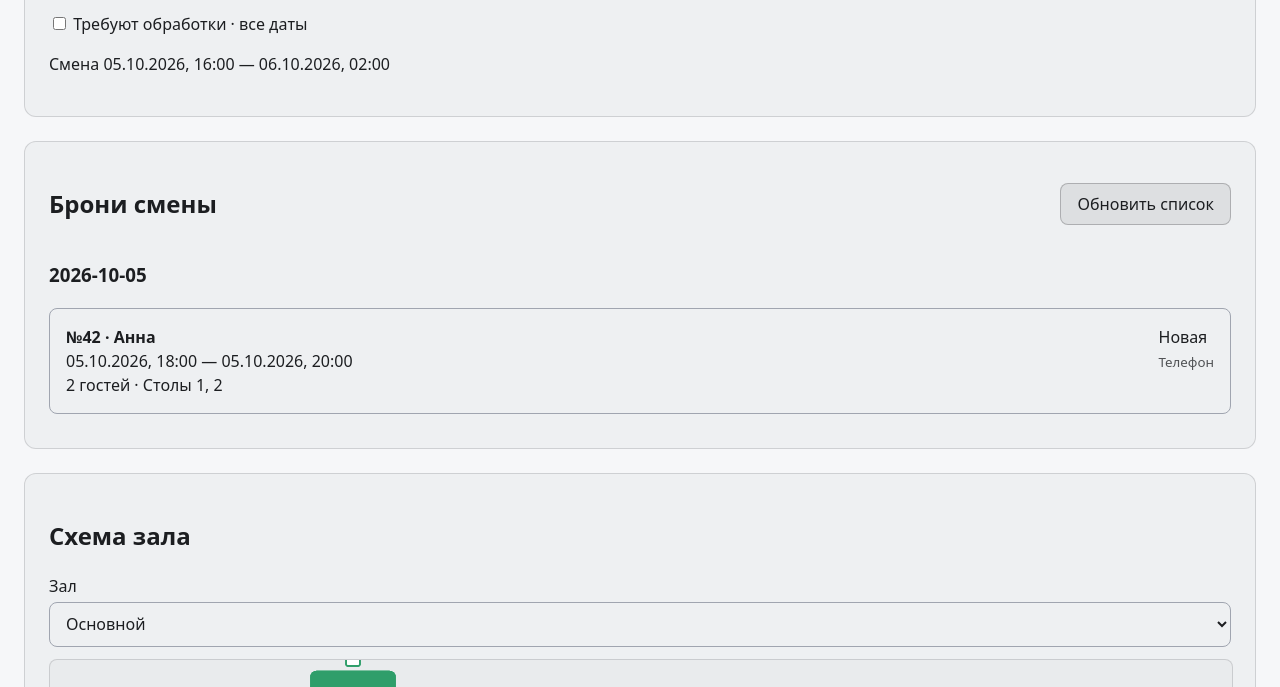
Test case: Booking Book › renders every assigned table and the summed capacity
The width and height of the screenshot is (1280, 687).
(page scrolled)
Click the button "№42": (135,337) [49,308,1231,414]
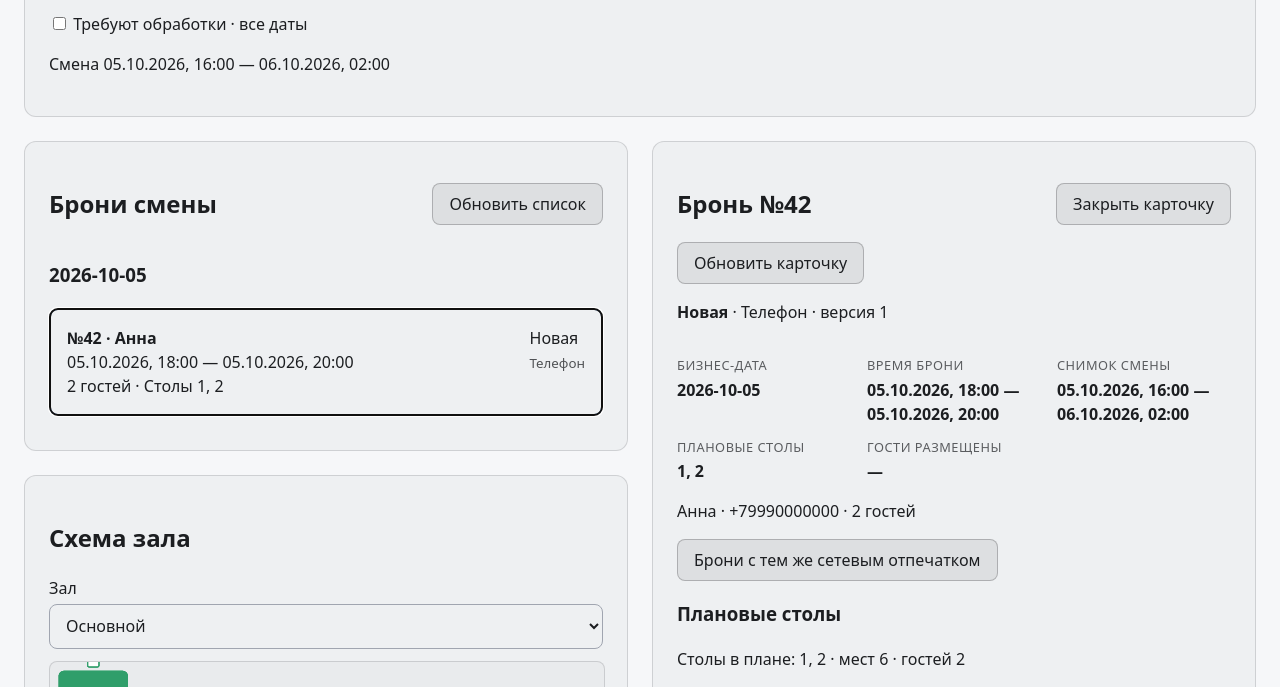
expect the text "Столы в плане: 1, 2 · мест 6 · гостей 2" is shown: met, box [677,648,965,670]
